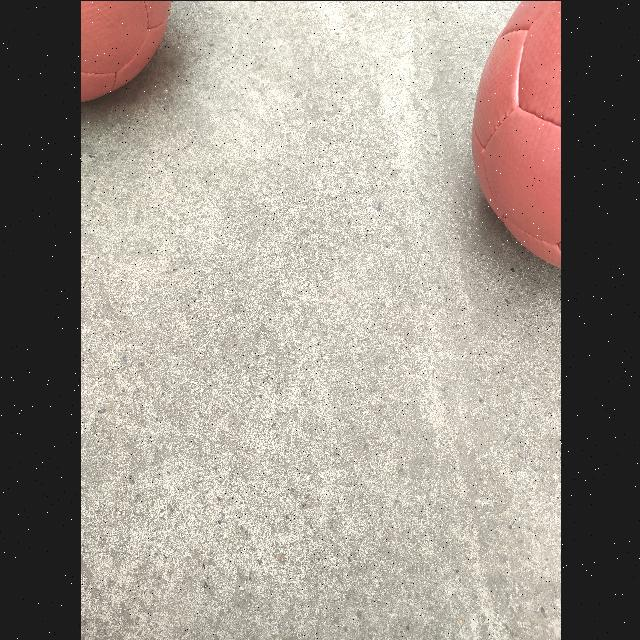R: (472, 0, 560, 272), (80, 0, 172, 104)
